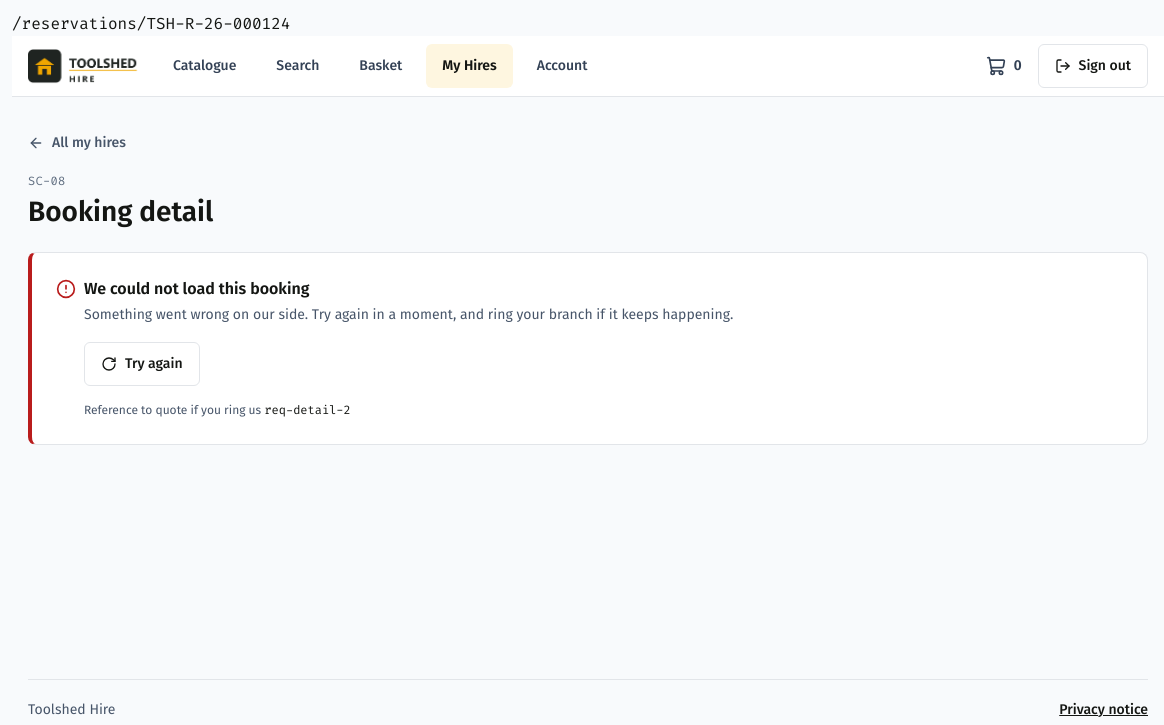
Test case: while it is loading and when it cannot be loaded › says so in plain words when it fails, and loads on a retry
Check: the message shows "We could not load this booking", box [84,279,310,298]
Check: the text "req-detail-2" is shown, box [264,402,351,418]
Click the button "Try again".
click(142, 364)  # box [84,342,200,386]
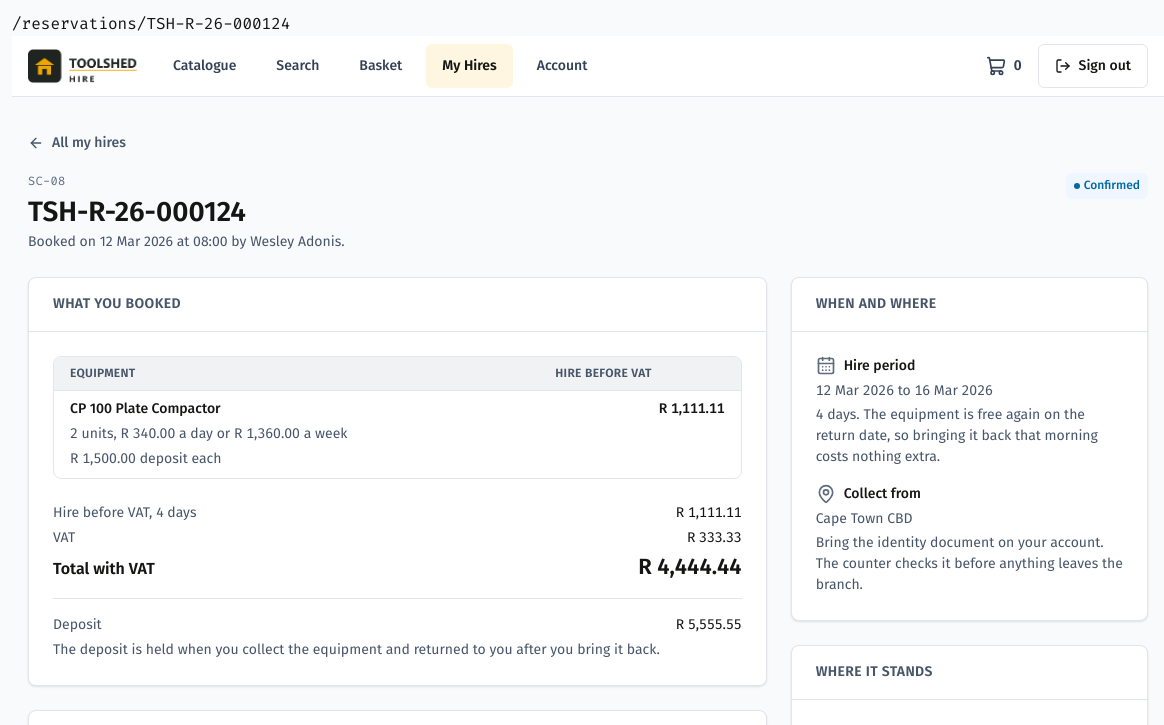
Check: the heading "TSH-R-26-000124" is shown, box [28,195,246,228]
